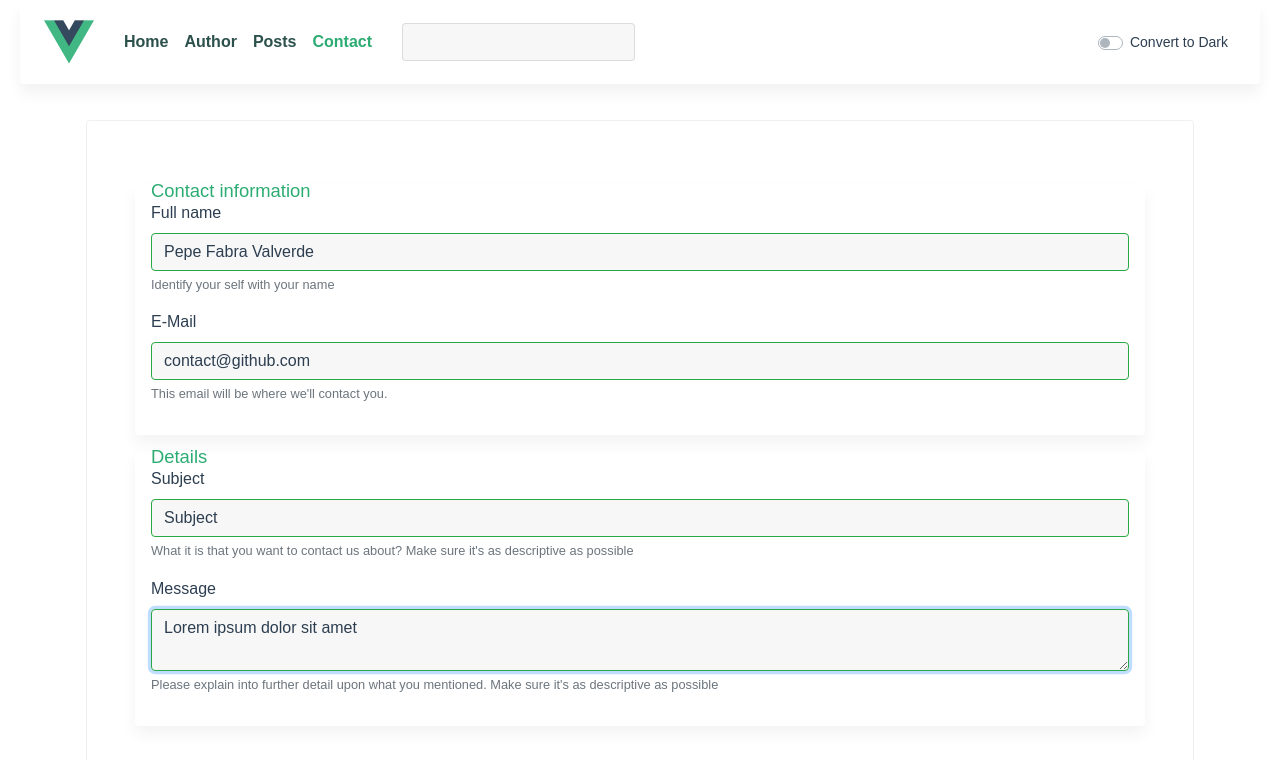
Scenario: 6. Contact page › should show error message when inputing an unvalid email
The width and height of the screenshot is (1280, 760).
Replace the text in the field with id "email" with "not-an@email": (640, 361) x1=151 y1=342 x2=1129 y2=380
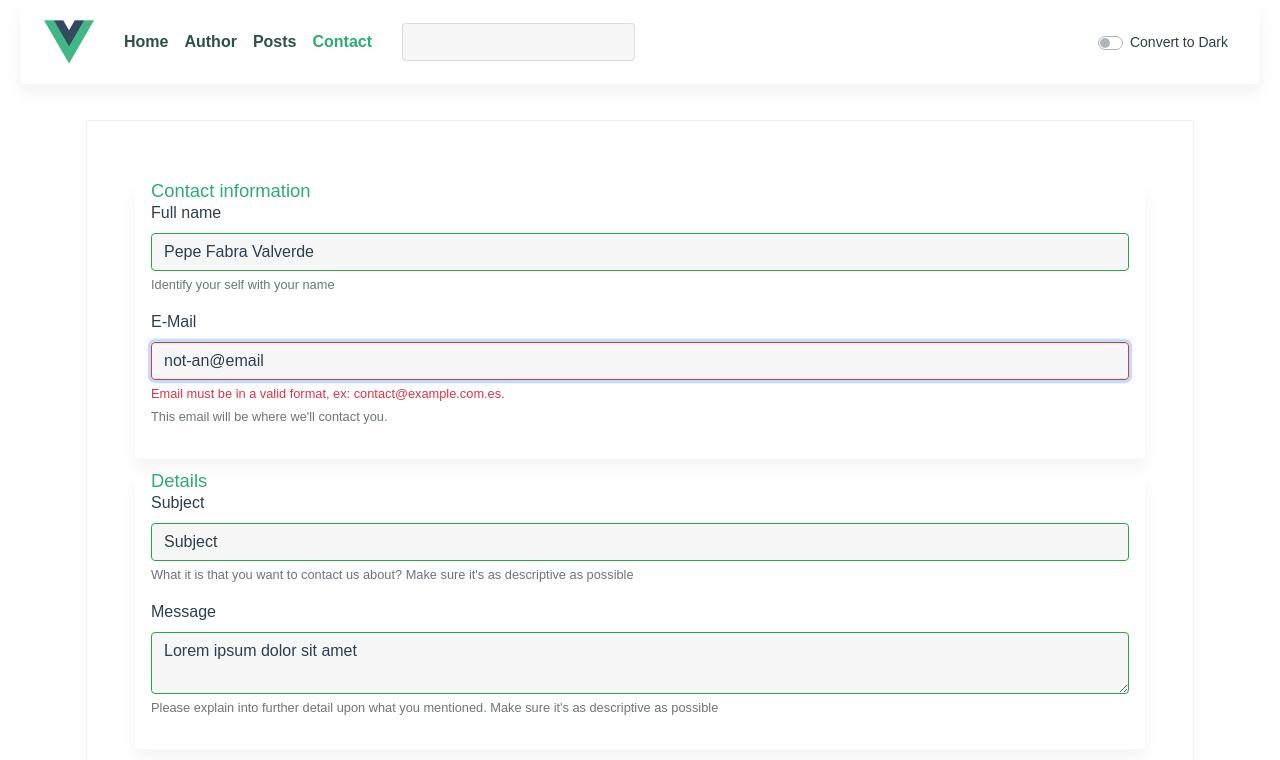
Check: the text "Email must be in a valid format, ex: contact@example.com.es." is shown, box x1=151 y1=386 x2=505 y2=401
